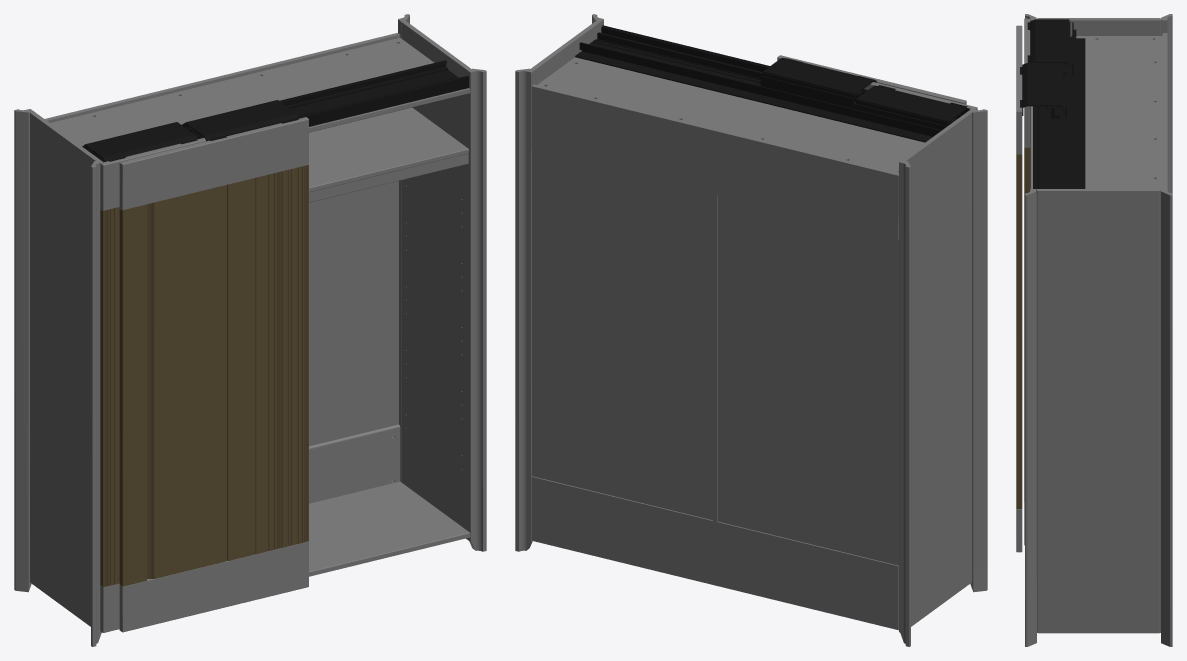
3 renders of one model, left to right at view 1: azimuth 30°, elevation 25°; view 2: azimuth 150°, elevation 25°; view 3: azimuth 270°, elevation 25°, orthographic. The views are drawn at different scales.
Parts seen in each view (by area): view 1: Obj3d66-448949-6-47, Obj3d66-448949-4-891, Obj3d66-448949-5-233, Obj3d66-448949-1-396, Obj3d66-448949-3-654, Obj3d66-448949-2-399; view 2: Obj3d66-448949-6-47, Obj3d66-448949-1-396, Obj3d66-448949-3-654, Obj3d66-448949-2-399; view 3: Obj3d66-448949-6-47, Obj3d66-448949-1-396, Obj3d66-448949-4-891, Obj3d66-448949-3-654, Obj3d66-448949-2-399, Obj3d66-448949-5-233.
Boxes of the visible parts, <box> form: Obj3d66-448949-6-47: <box>14,14,486,646</box>; Obj3d66-448949-4-891: <box>119,165,308,586</box>; Obj3d66-448949-5-233: <box>100,207,119,587</box>; Obj3d66-448949-1-396: <box>102,60,468,162</box>; Obj3d66-448949-3-654: <box>183,100,298,141</box>; Obj3d66-448949-2-399: <box>82,122,197,161</box>; Obj3d66-448949-6-47: <box>515,14,987,646</box>; Obj3d66-448949-1-396: <box>575,25,961,142</box>; Obj3d66-448949-3-654: <box>760,58,876,108</box>; Obj3d66-448949-2-399: <box>853,85,969,131</box>; Obj3d66-448949-6-47: <box>1016,14,1172,646</box>; Obj3d66-448949-1-396: <box>1033,29,1085,192</box>; Obj3d66-448949-4-891: <box>1016,154,1022,508</box>; Obj3d66-448949-3-654: <box>1020,63,1066,119</box>; Obj3d66-448949-2-399: <box>1027,19,1073,76</box>; Obj3d66-448949-5-233: <box>1024,147,1030,502</box>.
Size of the model in its own units: 76.24 by 89.14 by 27.77.
